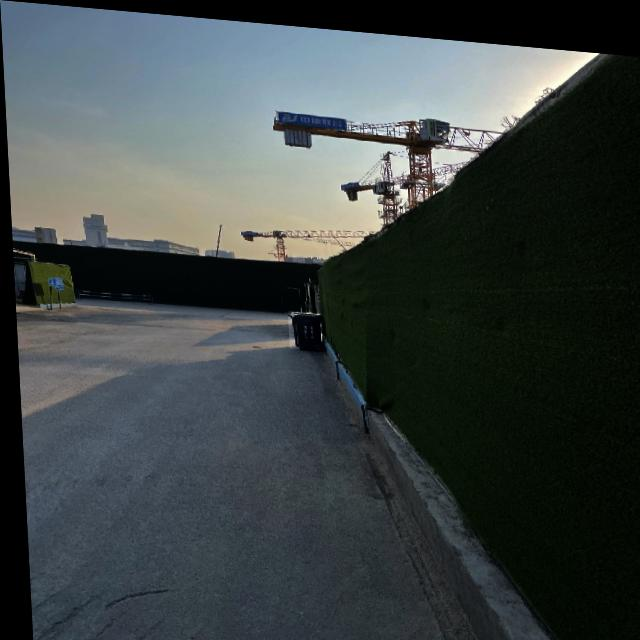garbage_bin: (285, 305, 320, 346)
